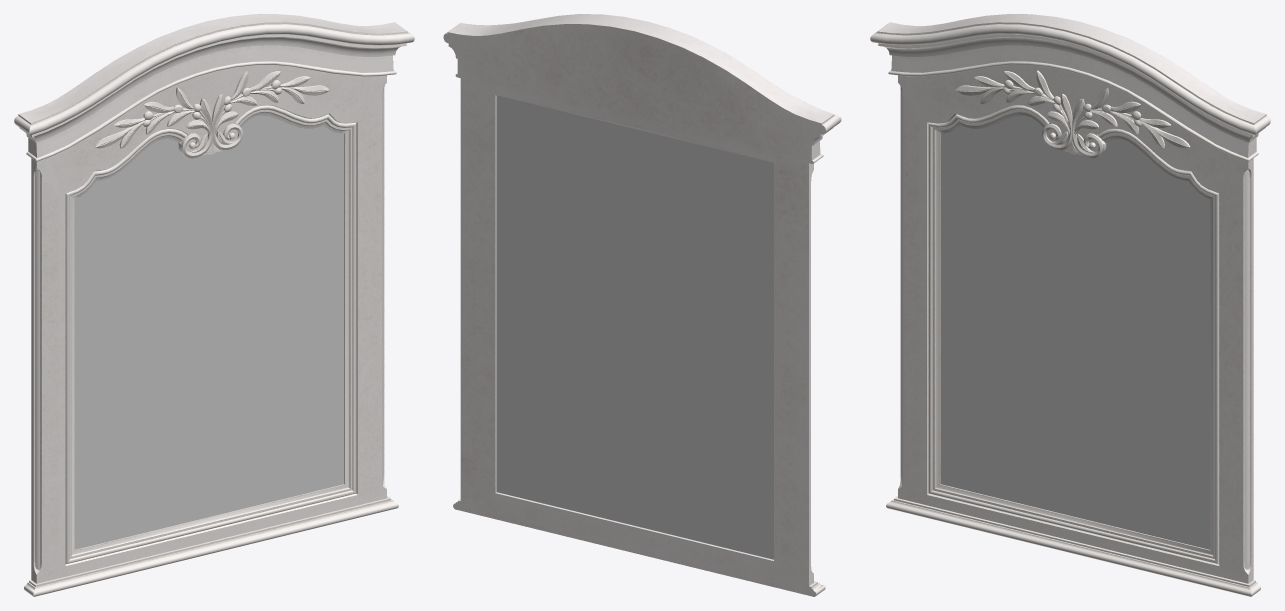
File: example180.gltf
3 views of the same model, side by side, from view 1: azimuth 30°, elevation 25°; view 2: azimuth 150°, elevation 25°; view 3: azimuth 330°, elevation 25° (orthographic).
Bounding box in the file's own units: 76.97 × 100 × 5.37.
2 materials, 1 textured.
